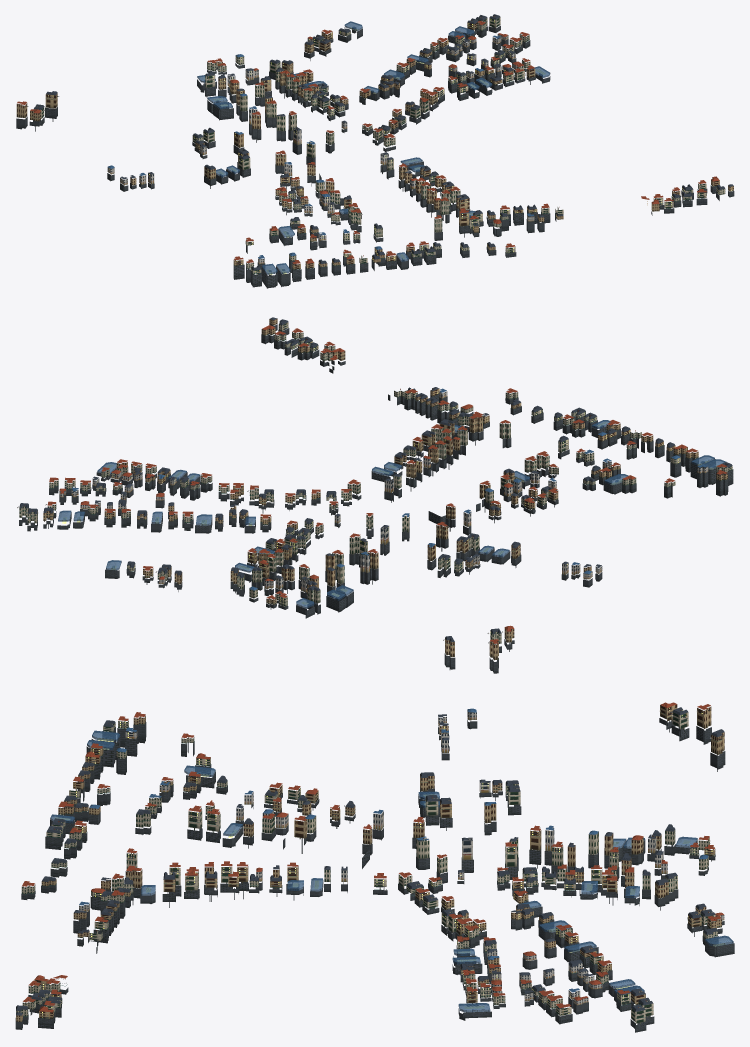
The model's file is osm_buildings_T_E00_N01_Q4.glb.
The picture shows the model from 3 angles, top to bottom: view 1: azimuth 30°, elevation 25°; view 2: azimuth 150°, elevation 25°; view 3: azimuth 270°, elevation 25°; orthographic projection. The views are drawn at different scales.
Parts seen in each view (by area): view 1: OSM_PBR_T_E00_N01_Q4_foundation, OSM_PBR_T_E00_N01_Q4_wall_cream_stucco, OSM_PBR_T_E00_N01_Q4_wall_french_ochre, OSM_PBR_T_E00_N01_Q4_roof_terracotta, OSM_PBR_T_E00_N01_Q4_roof_mansard_slate, OSM_PBR_T_E00_N01_Q4_greenhouse_blend, OSM_PBR_T_E00_N01_Q4_roof_mansard_deck, OSM_PBR_T_E00_N01_Q4_wall_pastel_sand, OSM_PBR_T_E00_N01_Q4_wall_warm_white, OSM_PBR_T_E00_N01_Q4_roof_mint_metal, OSM_PBR_T_E00_N01_Q4_balcony_railing; view 2: OSM_PBR_T_E00_N01_Q4_foundation, OSM_PBR_T_E00_N01_Q4_wall_cream_stucco, OSM_PBR_T_E00_N01_Q4_wall_french_ochre, OSM_PBR_T_E00_N01_Q4_roof_terracotta, OSM_PBR_T_E00_N01_Q4_greenhouse_blend, OSM_PBR_T_E00_N01_Q4_roof_mansard_slate, OSM_PBR_T_E00_N01_Q4_roof_mansard_deck, OSM_PBR_T_E00_N01_Q4_wall_pastel_sand, OSM_PBR_T_E00_N01_Q4_wall_warm_white, OSM_PBR_T_E00_N01_Q4_roof_mint_metal, OSM_PBR_T_E00_N01_Q4_trim_cornice; view 3: OSM_PBR_T_E00_N01_Q4_foundation, OSM_PBR_T_E00_N01_Q4_wall_cream_stucco, OSM_PBR_T_E00_N01_Q4_wall_french_ochre, OSM_PBR_T_E00_N01_Q4_roof_terracotta, OSM_PBR_T_E00_N01_Q4_roof_mansard_slate, OSM_PBR_T_E00_N01_Q4_greenhouse_blend, OSM_PBR_T_E00_N01_Q4_roof_mansard_deck, OSM_PBR_T_E00_N01_Q4_wall_pastel_sand, OSM_PBR_T_E00_N01_Q4_wall_warm_white, OSM_PBR_T_E00_N01_Q4_trim_cornice, OSM_PBR_T_E00_N01_Q4_roof_mint_metal, OSM_PBR_T_E00_N01_Q4_balcony_railing (+2 smaller).
Part boxes in pixels (x1,y1,x2,y2): OSM_PBR_T_E00_N01_Q4_foundation: (16, 25, 734, 288); OSM_PBR_T_E00_N01_Q4_wall_cream_stucco: (34, 16, 725, 273); OSM_PBR_T_E00_N01_Q4_wall_french_ochre: (16, 20, 733, 269); OSM_PBR_T_E00_N01_Q4_roof_terracotta: (17, 16, 719, 263); OSM_PBR_T_E00_N01_Q4_roof_mansard_slate: (34, 14, 733, 273); OSM_PBR_T_E00_N01_Q4_greenhouse_blend: (197, 21, 549, 274); OSM_PBR_T_E00_N01_Q4_roof_mansard_deck: (35, 14, 723, 274); OSM_PBR_T_E00_N01_Q4_wall_pastel_sand: (107, 38, 534, 264); OSM_PBR_T_E00_N01_Q4_wall_warm_white: (227, 34, 515, 213); OSM_PBR_T_E00_N01_Q4_roof_mint_metal: (31, 21, 716, 273); OSM_PBR_T_E00_N01_Q4_balcony_railing: (26, 19, 718, 276); OSM_PBR_T_E00_N01_Q4_foundation: (19, 324, 733, 673); OSM_PBR_T_E00_N01_Q4_wall_cream_stucco: (19, 322, 732, 644); OSM_PBR_T_E00_N01_Q4_wall_french_ochre: (43, 318, 727, 660); OSM_PBR_T_E00_N01_Q4_roof_terracotta: (24, 325, 727, 643); OSM_PBR_T_E00_N01_Q4_greenhouse_blend: (58, 420, 726, 608); OSM_PBR_T_E00_N01_Q4_roof_mansard_slate: (19, 317, 732, 641); OSM_PBR_T_E00_N01_Q4_roof_mansard_deck: (20, 319, 730, 639); OSM_PBR_T_E00_N01_Q4_wall_pastel_sand: (80, 390, 708, 589); OSM_PBR_T_E00_N01_Q4_wall_warm_white: (59, 458, 539, 592); OSM_PBR_T_E00_N01_Q4_roof_mint_metal: (19, 330, 732, 645); OSM_PBR_T_E00_N01_Q4_trim_cornice: (19, 328, 732, 644); OSM_PBR_T_E00_N01_Q4_foundation: (15, 718, 734, 1032); OSM_PBR_T_E00_N01_Q4_wall_cream_stucco: (16, 710, 717, 1024); OSM_PBR_T_E00_N01_Q4_wall_french_ochre: (16, 704, 724, 1021); OSM_PBR_T_E00_N01_Q4_roof_terracotta: (22, 702, 723, 1012); OSM_PBR_T_E00_N01_Q4_roof_mansard_slate: (16, 707, 724, 1015); OSM_PBR_T_E00_N01_Q4_greenhouse_blend: (50, 730, 733, 1012); OSM_PBR_T_E00_N01_Q4_roof_mansard_deck: (17, 707, 732, 1011); OSM_PBR_T_E00_N01_Q4_wall_pastel_sand: (79, 710, 724, 997); OSM_PBR_T_E00_N01_Q4_wall_warm_white: (236, 805, 667, 1005); OSM_PBR_T_E00_N01_Q4_trim_cornice: (16, 705, 723, 1016); OSM_PBR_T_E00_N01_Q4_roof_mint_metal: (22, 712, 723, 1018); OSM_PBR_T_E00_N01_Q4_balcony_railing: (22, 710, 712, 1019).
Bounding box in the file's own units: 983 × 80.47 × 988.
18 materials, 16 textured.
